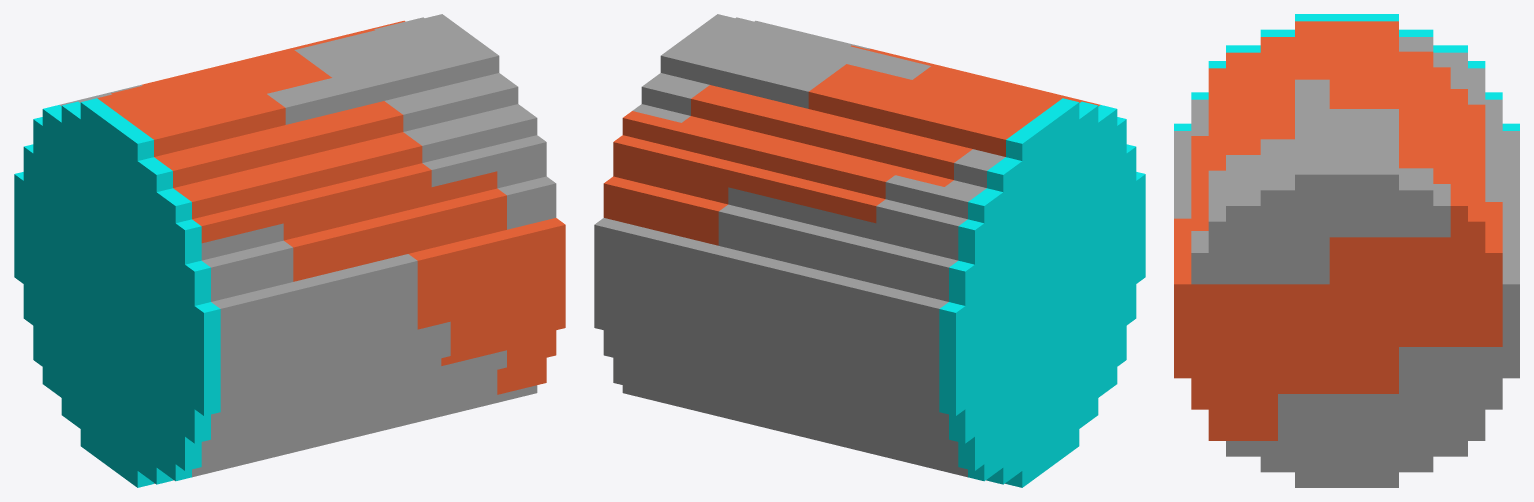
File: Mine4-6_ORIG.obj
3 views of the same model, side by side, from view 1: azimuth 30°, elevation 25°; view 2: azimuth 150°, elevation 25°; view 3: azimuth 270°, elevation 25° (orthographic). The views are drawn at different scales.
Size of the model in its own units: 2.2 by 2 by 2.
